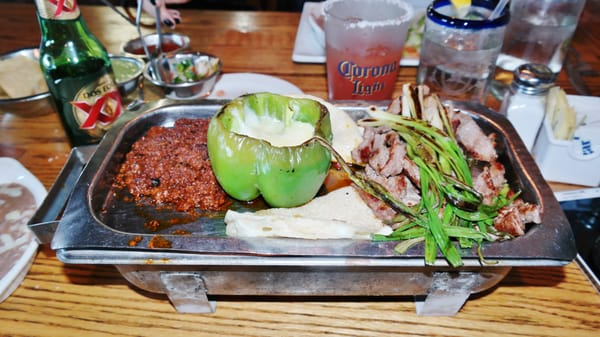pizza: (322, 1, 419, 108), (416, 1, 511, 107), (493, 1, 586, 86), (564, 2, 600, 97)
sushi: (138, 43, 222, 100)
